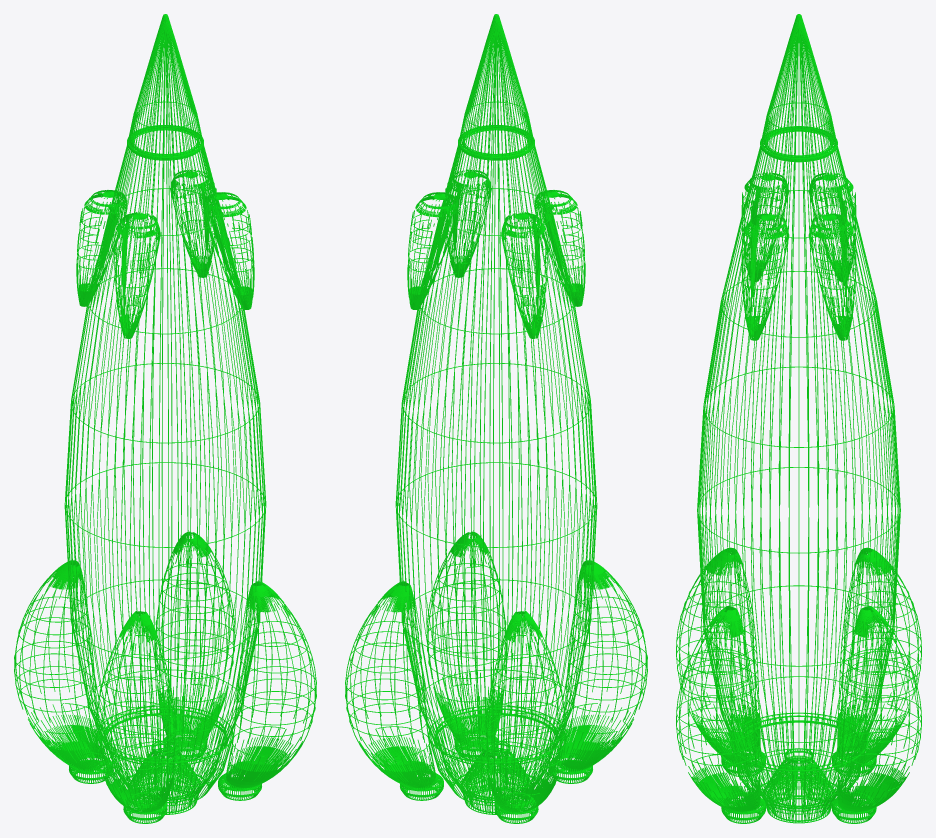
The model's file is nuclear-missile-wireframe.glb.
3 views of the same model, side by side, from view 1: azimuth 30°, elevation 25°; view 2: azimuth 150°, elevation 25°; view 3: azimuth 270°, elevation 25° (orthographic).
Visible parts, largest first — view 1: chassis technical wire, four-delivery-thrusters technical wire, air-brake-manoeuvring-system technical wire, atomic-warhead-nose technical wire; view 2: chassis technical wire, four-delivery-thrusters technical wire, air-brake-manoeuvring-system technical wire, atomic-warhead-nose technical wire; view 3: chassis technical wire, four-delivery-thrusters technical wire, atomic-warhead-nose technical wire, air-brake-manoeuvring-system technical wire.
Boxes of the visible parts, x1,y1,x2,y2 form: chassis technical wire: [64, 188, 266, 814]; four-delivery-thrusters technical wire: [14, 531, 316, 823]; air-brake-manoeuvring-system technical wire: [76, 169, 254, 338]; atomic-warhead-nose technical wire: [109, 14, 221, 235]; chassis technical wire: [395, 188, 597, 814]; four-delivery-thrusters technical wire: [345, 531, 647, 823]; air-brake-manoeuvring-system technical wire: [407, 169, 585, 338]; atomic-warhead-nose technical wire: [441, 14, 552, 235]; chassis technical wire: [697, 190, 900, 823]; four-delivery-thrusters technical wire: [676, 547, 921, 823]; atomic-warhead-nose technical wire: [742, 14, 855, 237]; air-brake-manoeuvring-system technical wire: [741, 172, 856, 340].
Size of the model in its own units: 1.73 by 6.19 by 1.73.
